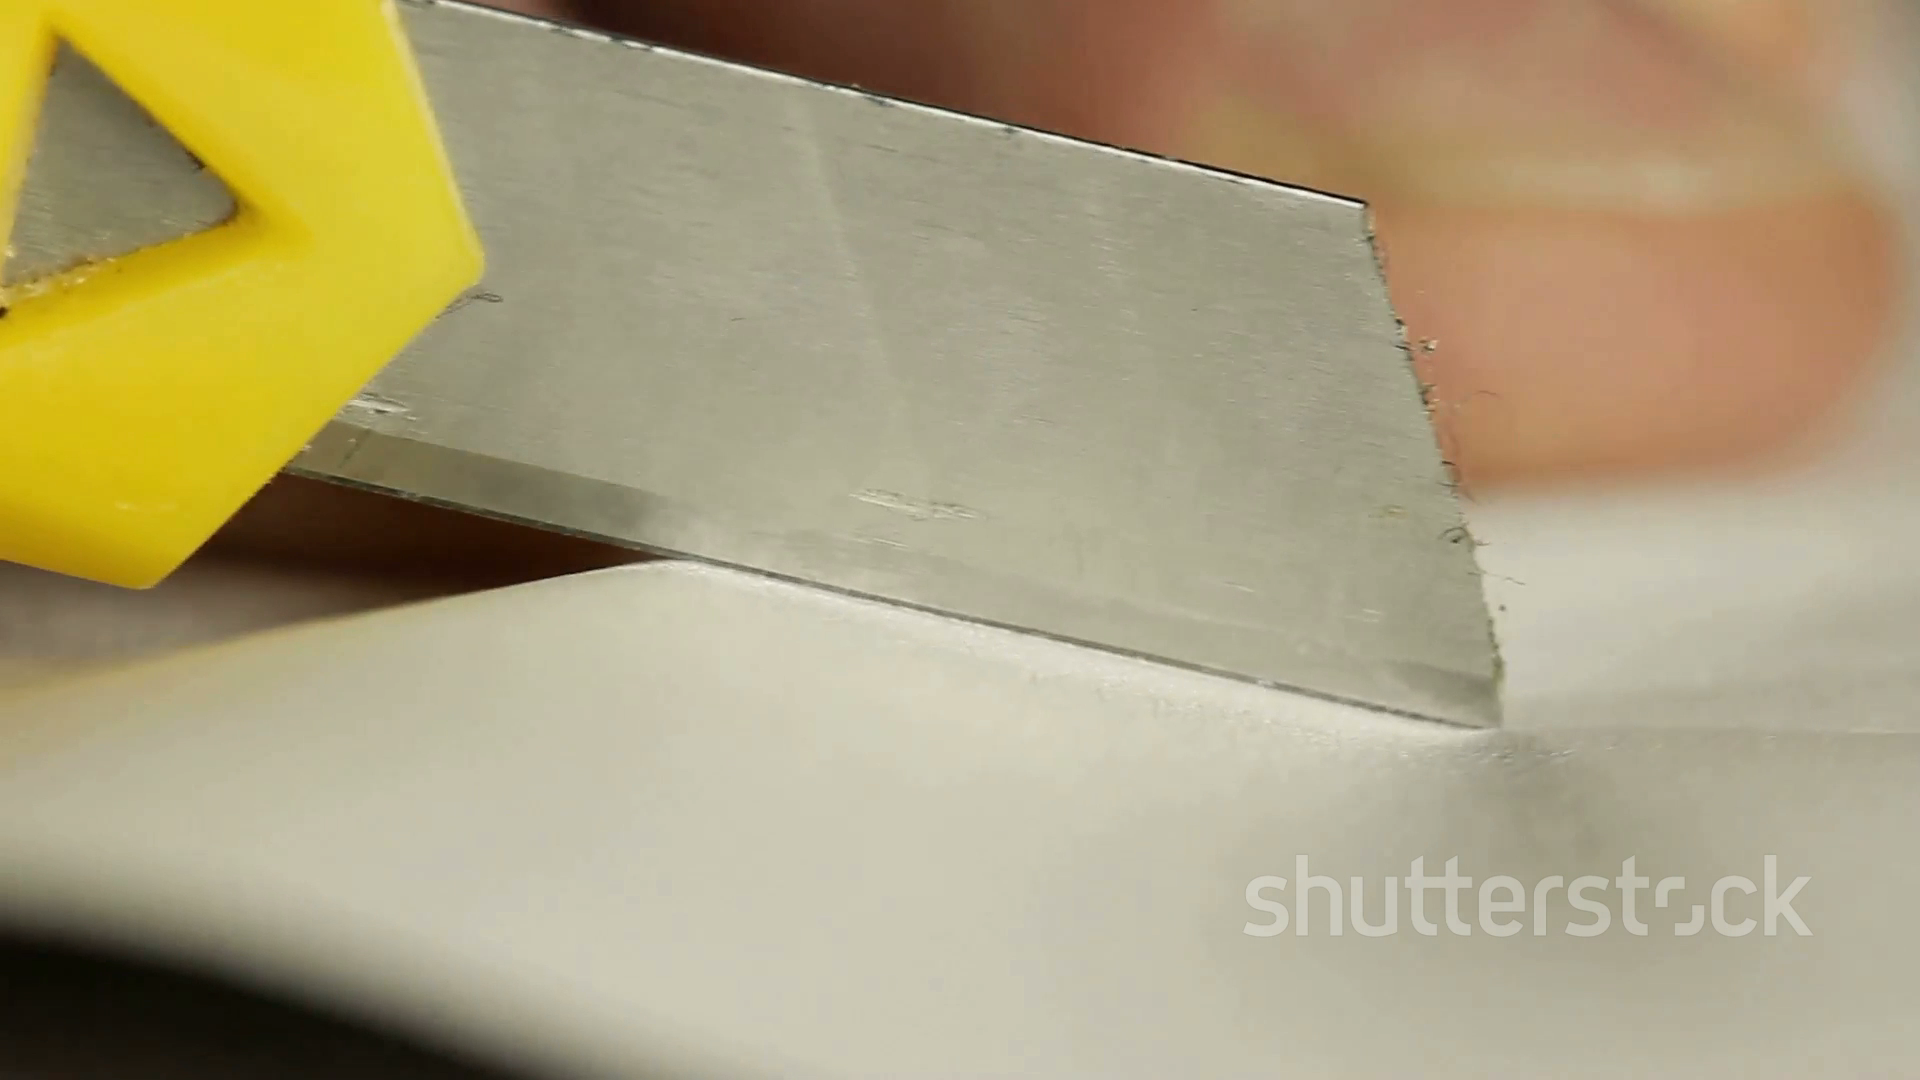cortante: (282, 0, 1501, 732)
